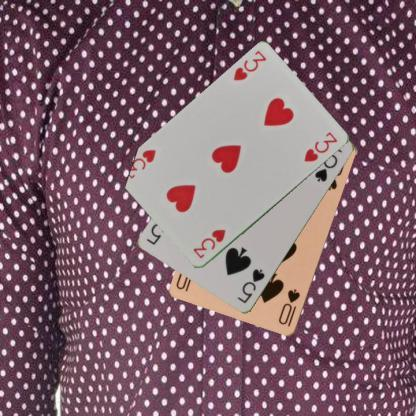10s: (276, 286, 302, 328)
3h: (231, 48, 268, 83), (190, 226, 227, 260)
5s: (235, 266, 266, 304)
